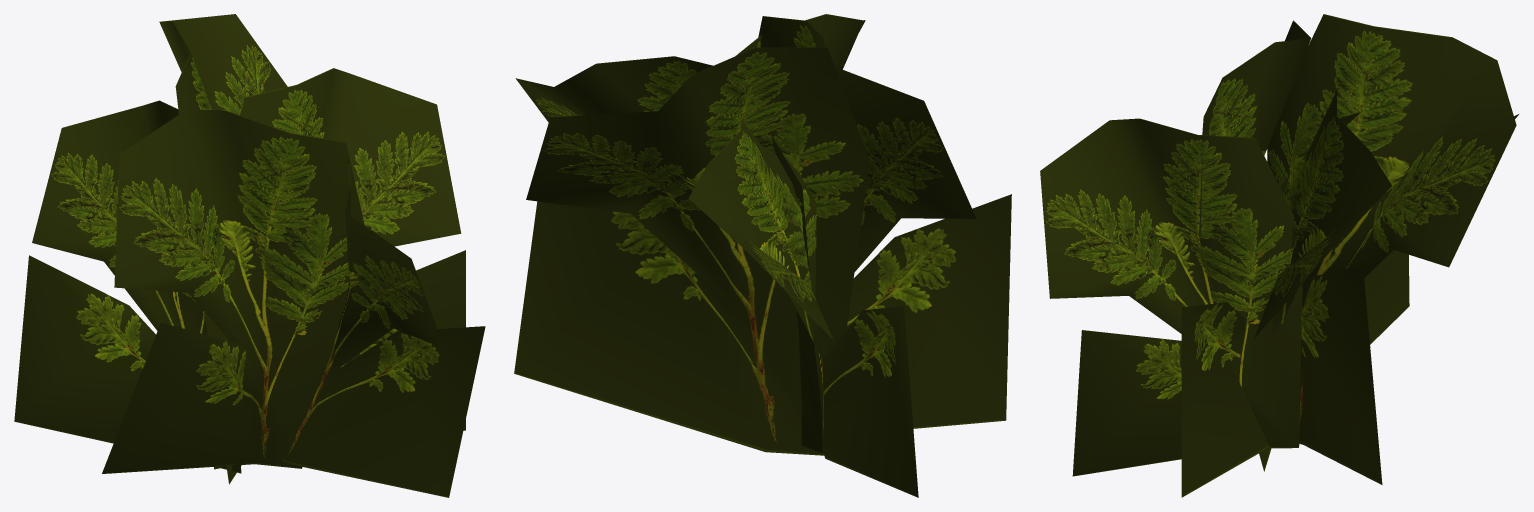
The model's file is Plant_01_high.FBX.
3 renders of one model, left to right at view 1: azimuth 30°, elevation 25°; view 2: azimuth 150°, elevation 25°; view 3: azimuth 270°, elevation 25°, orthographic. The views are drawn at different scales.
Parts seen in each view (by area): view 1: Plant_01_high; view 2: Plant_01_high; view 3: Plant_01_high.
Boxes of the visible parts, x1,y1,x2,y2 form: Plant_01_high: [14, 14, 485, 497]; Plant_01_high: [514, 14, 1011, 497]; Plant_01_high: [1040, 14, 1518, 497].
Size of the model in its own units: 115 by 112 by 117.
